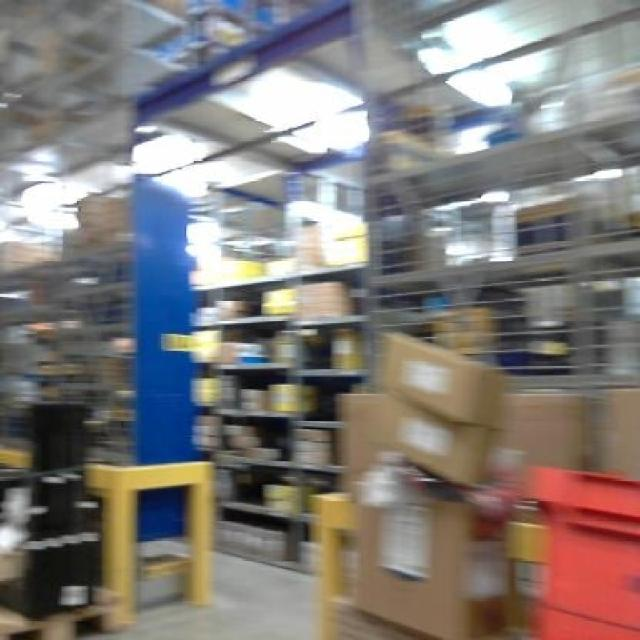pallets: (340, 332, 509, 637), (526, 466, 637, 637)
